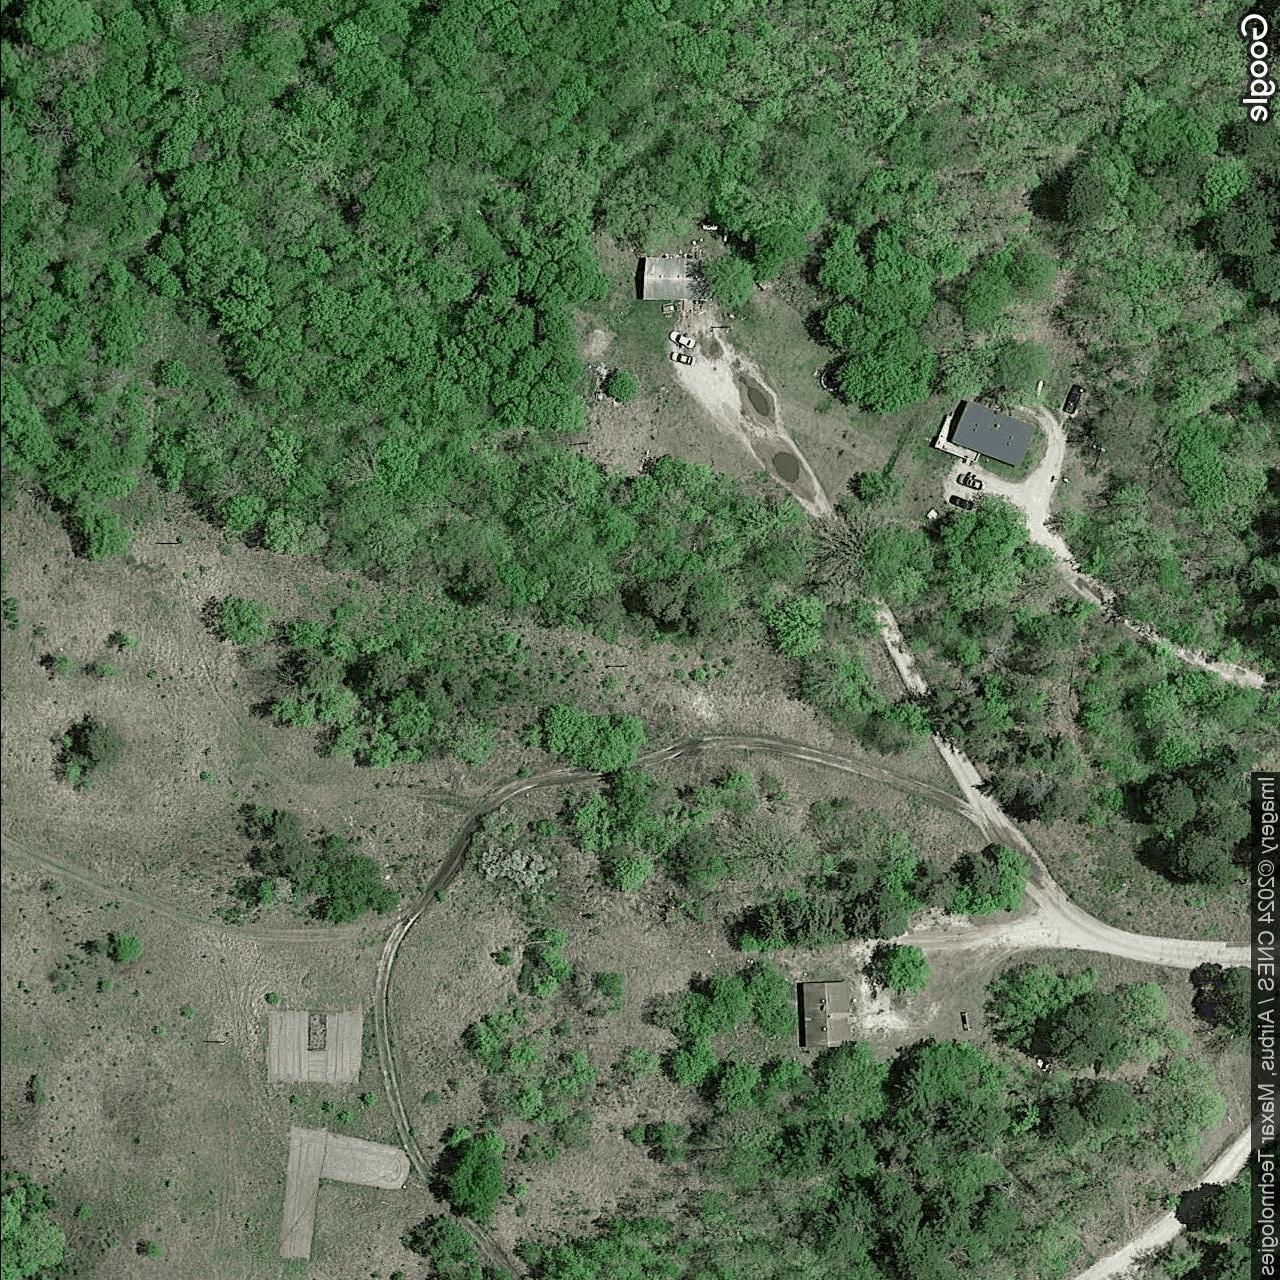House: (949, 400, 1035, 470), (802, 979, 853, 1048), (641, 256, 712, 301)
Propane: (1032, 377, 1046, 397), (700, 222, 717, 231)
